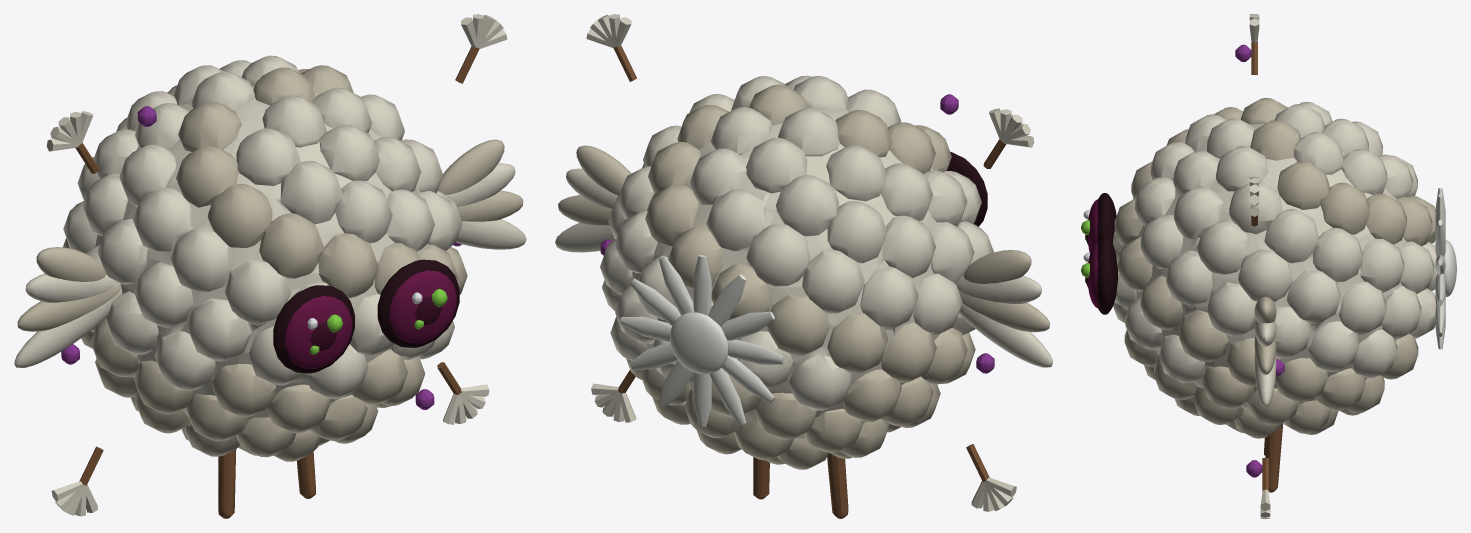
File: seedrift.glb
3 views of the same model, side by side, from view 1: azimuth 30°, elevation 25°; view 2: azimuth 150°, elevation 25°; view 3: azimuth 270°, elevation 25° (orthographic). The views are drawn at different scales.
Visible parts, largest first — view 1: creature; view 2: creature; view 3: creature.
Part boxes in pixels (left/top/right/bottom): creature: left=14, top=14, right=526, bottom=518; creature: left=555, top=14, right=1052, bottom=518; creature: left=1081, top=14, right=1456, bottom=518.
Size of the model in its own units: 1.19 by 1 by 0.9042.
